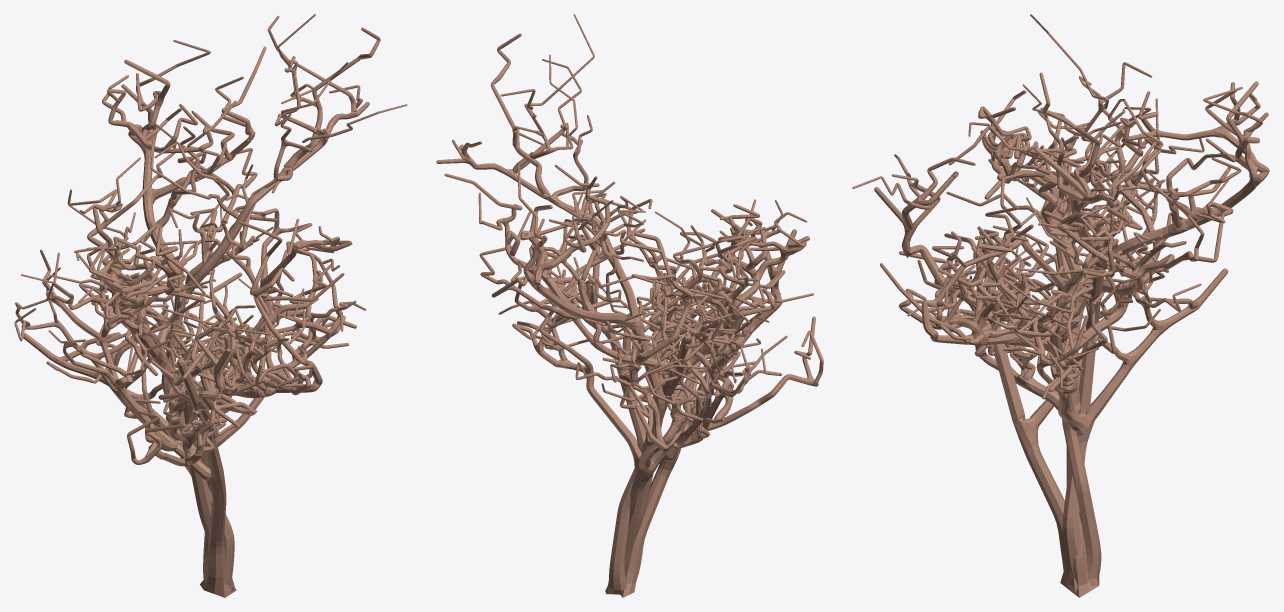
3 renders of one model, left to right at view 1: azimuth 30°, elevation 25°; view 2: azimuth 150°, elevation 25°; view 3: azimuth 270°, elevation 25°, orthographic. The views are drawn at different scales.
Size of the model in its own units: 1.3 by 2.01 by 1.24.
